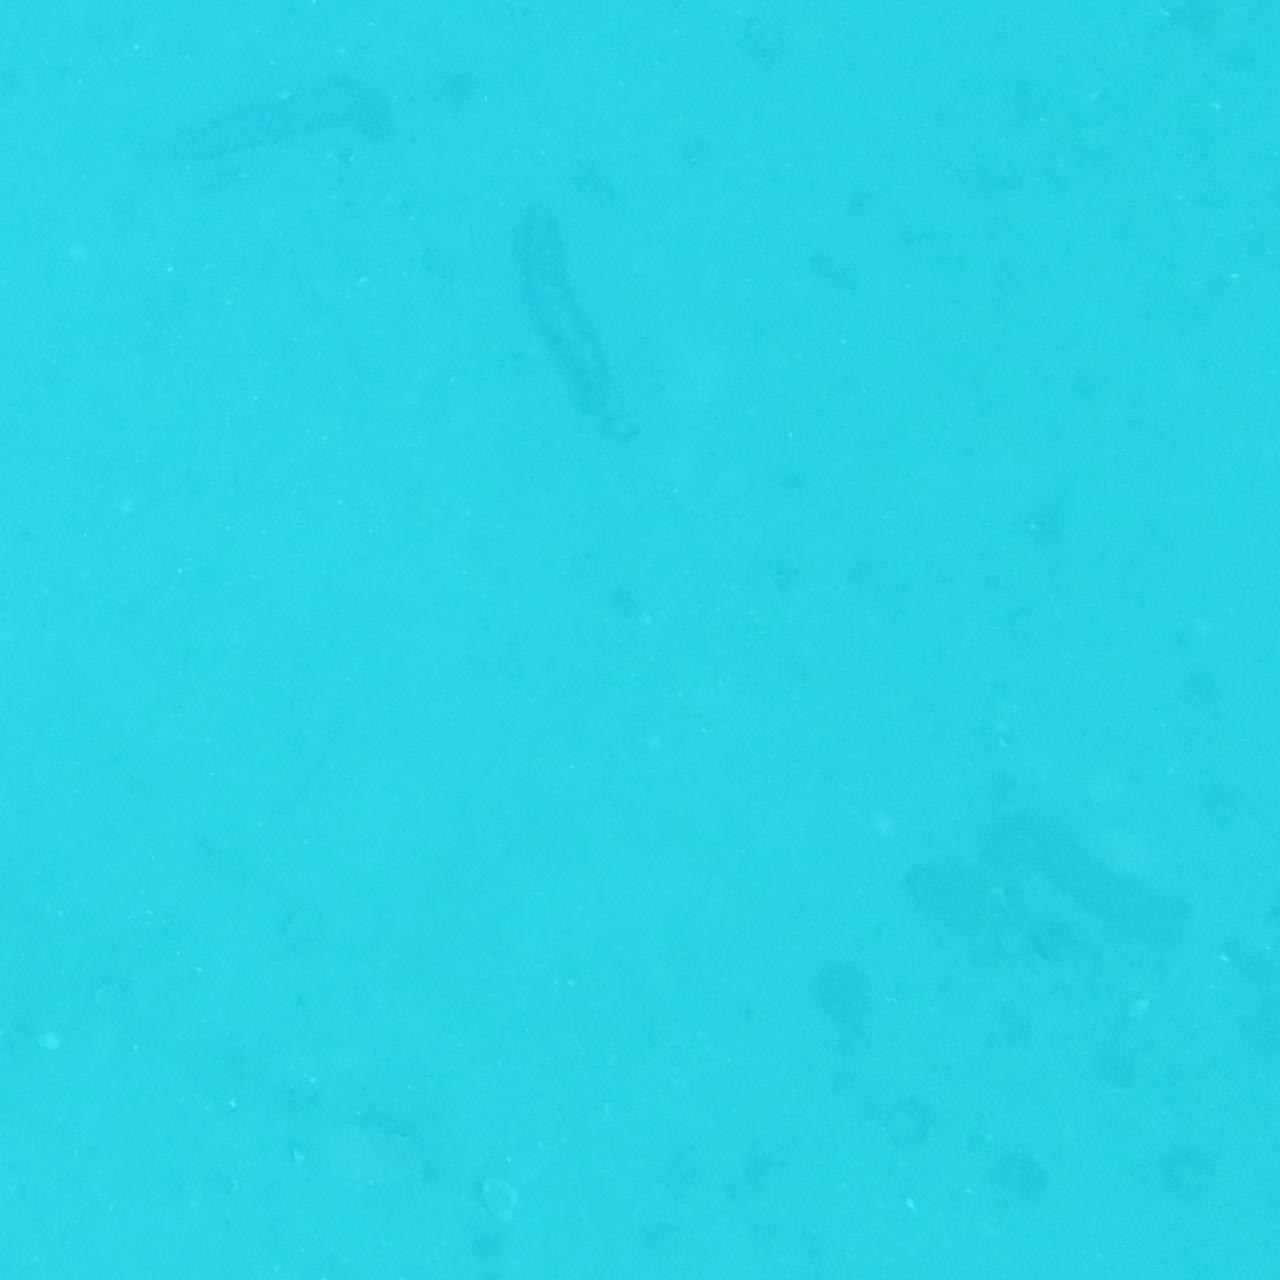Holothuria tubulosa: (512, 200, 626, 445), (137, 61, 415, 151), (974, 816, 1177, 910), (775, 1232, 1071, 1280), (113, 0, 297, 64)
